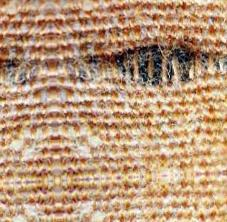slub: (6, 43, 226, 88)
